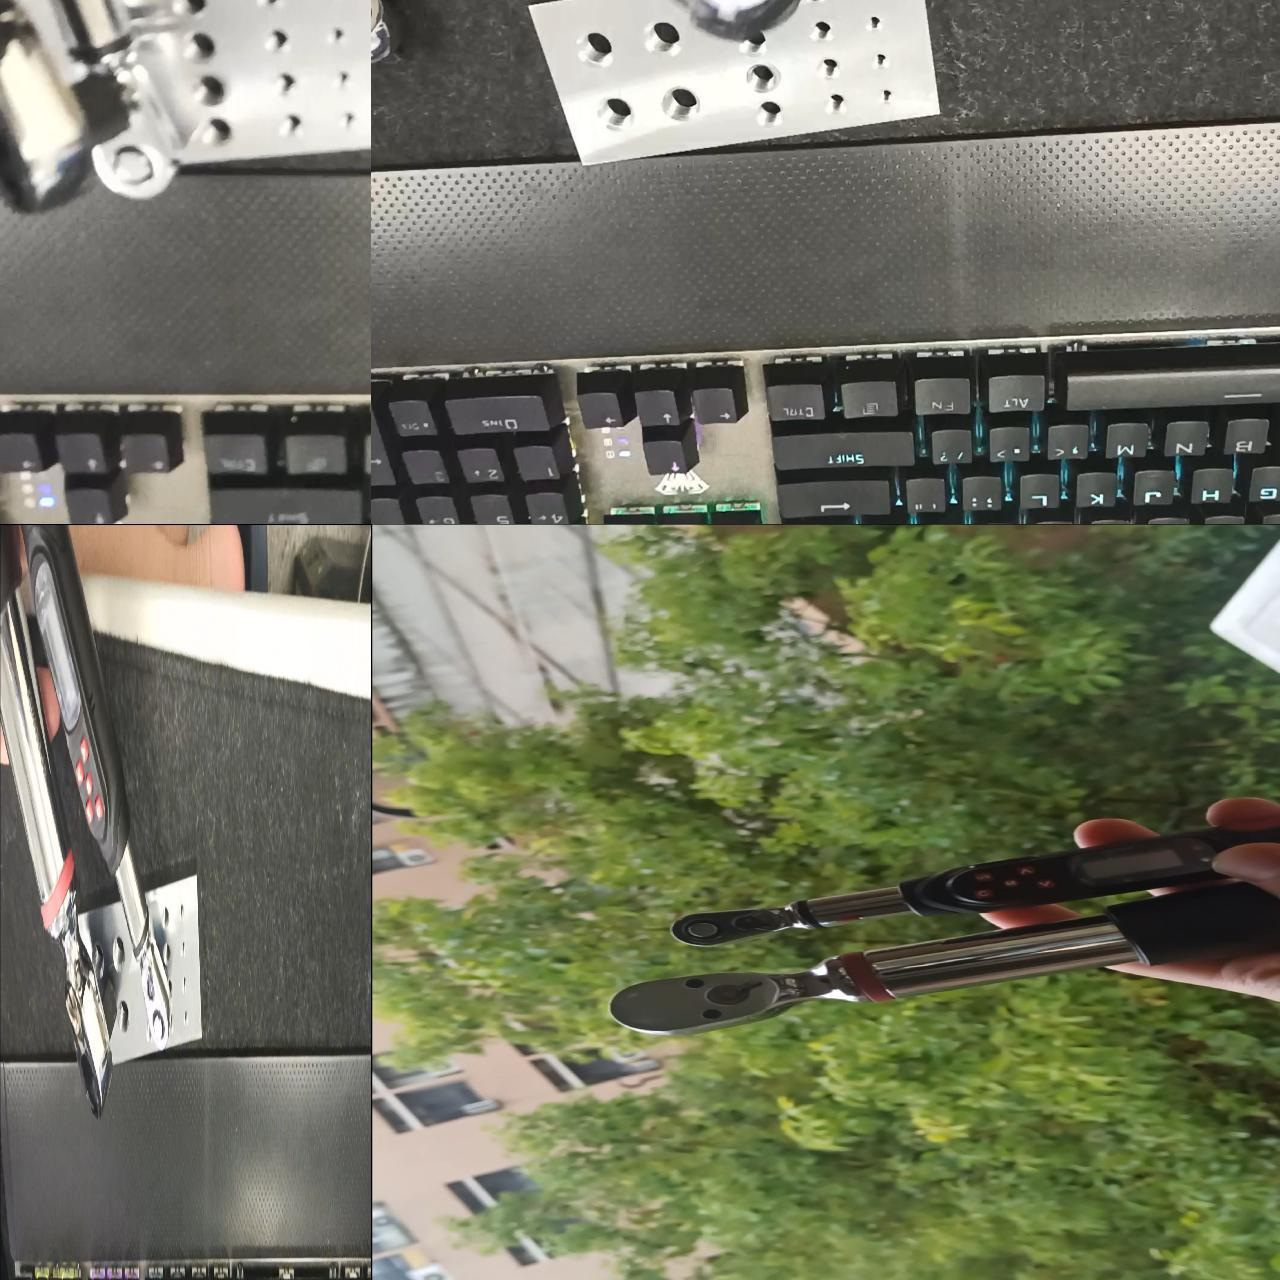Tool: (612, 956, 863, 1039), (52, 899, 118, 1117), (670, 904, 809, 948), (136, 931, 171, 1051)
